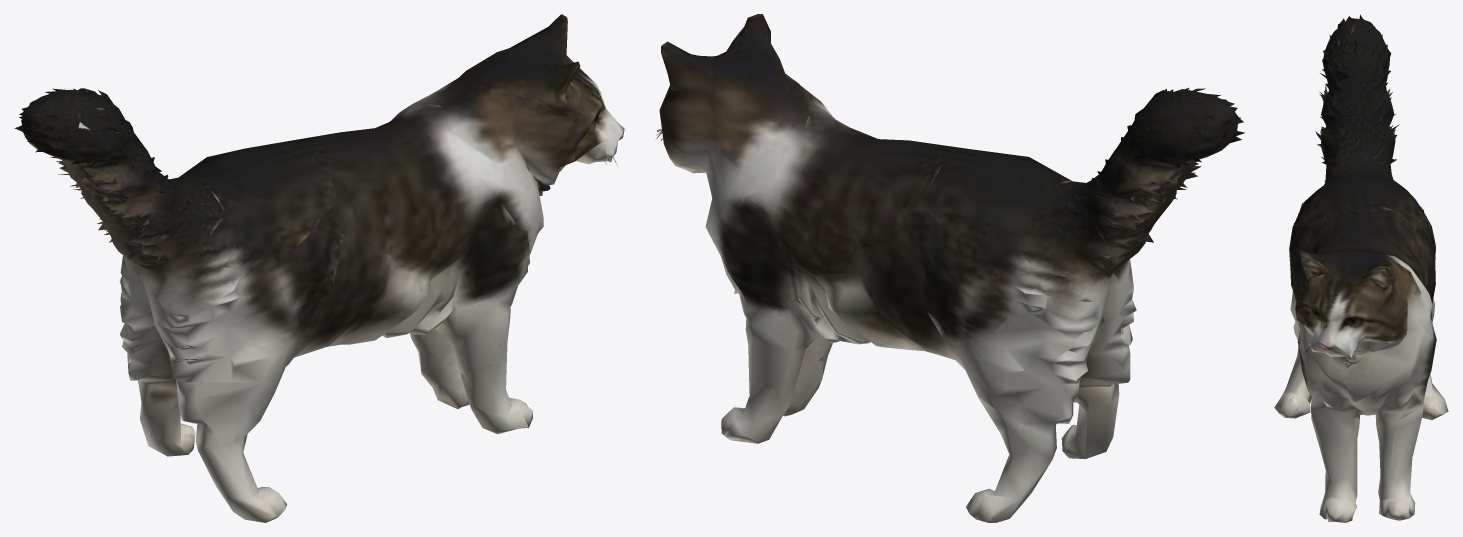
File: OSCARRI-lo.glb
3 renders of one model, left to right at view 1: azimuth 30°, elevation 25°; view 2: azimuth 150°, elevation 25°; view 3: azimuth 270°, elevation 25°, orthographic. The views are drawn at different scales.
Parts seen in each view (by area): view 1: tripo_node_c3eb7bea-1717-411c-901c-c70056f371a4; view 2: tripo_node_c3eb7bea-1717-411c-901c-c70056f371a4; view 3: tripo_node_c3eb7bea-1717-411c-901c-c70056f371a4.
Boxes of the visible parts, left/top/right/bottom form: tripo_node_c3eb7bea-1717-411c-901c-c70056f371a4: left=14, top=14, right=624, bottom=522; tripo_node_c3eb7bea-1717-411c-901c-c70056f371a4: left=656, top=14, right=1244, bottom=522; tripo_node_c3eb7bea-1717-411c-901c-c70056f371a4: left=1274, top=14, right=1448, bottom=522.
Bounding box in the file's own units: 1.41 × 0.997 × 0.47.
1 material, 1 textured.
